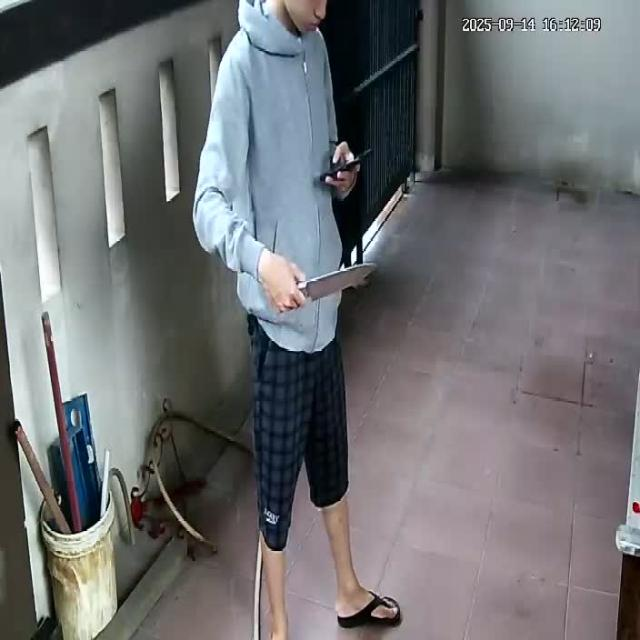senjata_tajam: (299, 259, 378, 305)
